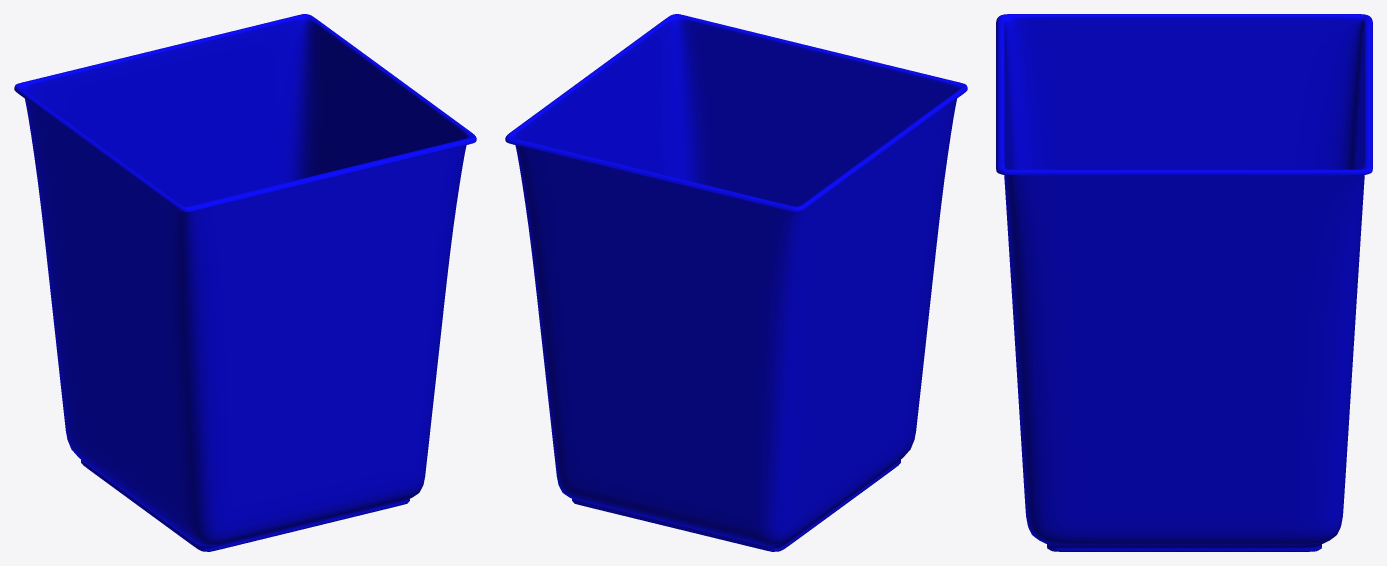
Rendered from trash-square.fbx.
3 views of the same model, side by side, from view 1: azimuth 30°, elevation 25°; view 2: azimuth 150°, elevation 25°; view 3: azimuth 270°, elevation 25° (orthographic). The views are drawn at different scales.
Visible parts, largest first — view 1: Recycling Bin; view 2: Recycling Bin; view 3: Recycling Bin.
Boxes of the visible parts, left/top/right/bottom form: Recycling Bin: left=14, top=14, right=476, bottom=551; Recycling Bin: left=505, top=14, right=967, bottom=551; Recycling Bin: left=996, top=14, right=1372, bottom=551.
Size of the model in its own units: 29.87 by 35.49 by 30.01.
